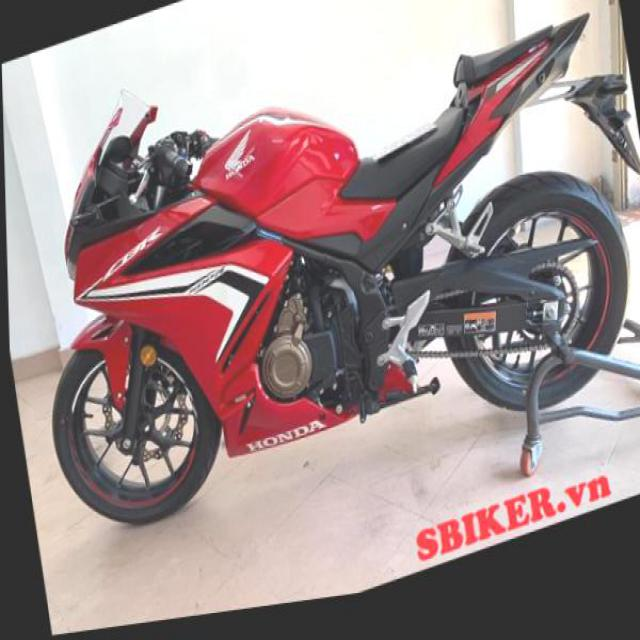CBR500R: (2, 0, 639, 583)
